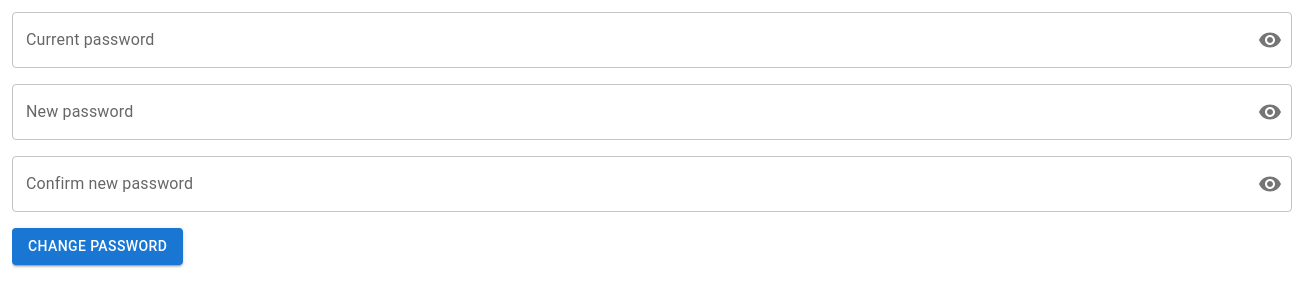
Scenario: ChangePasswordForm › requires the current password
Type "new-password-1" into the password field labelled "New password".
click(627, 112); type("new-password-1")  # box [12,84,1242,140]
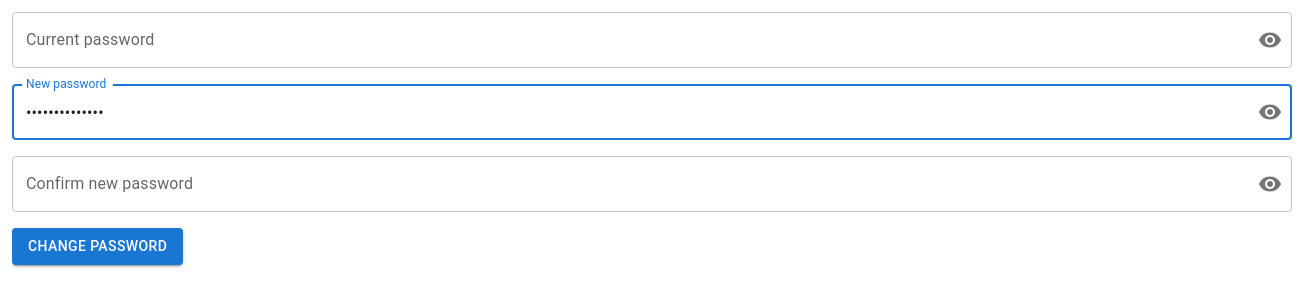
Type "new-password-1" into the password field labelled "Confirm new password".
click(627, 184); type("new-password-1")  # box [12,156,1242,212]
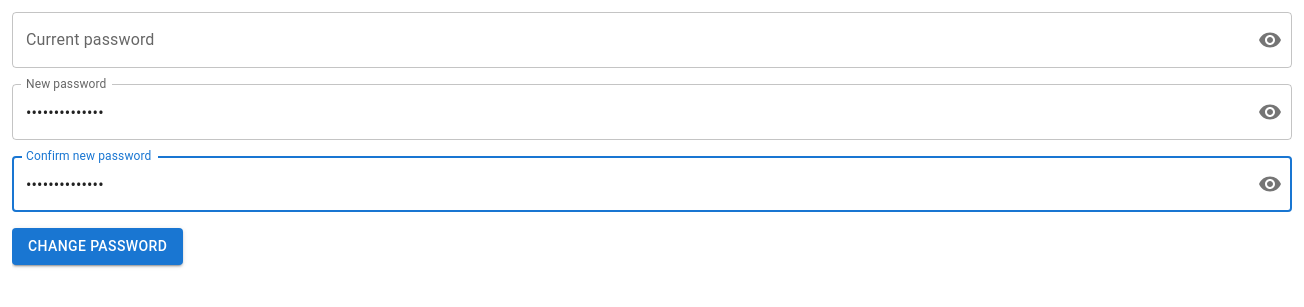
Click the button "Change password".
click(98, 246)  # box [12,228,183,264]
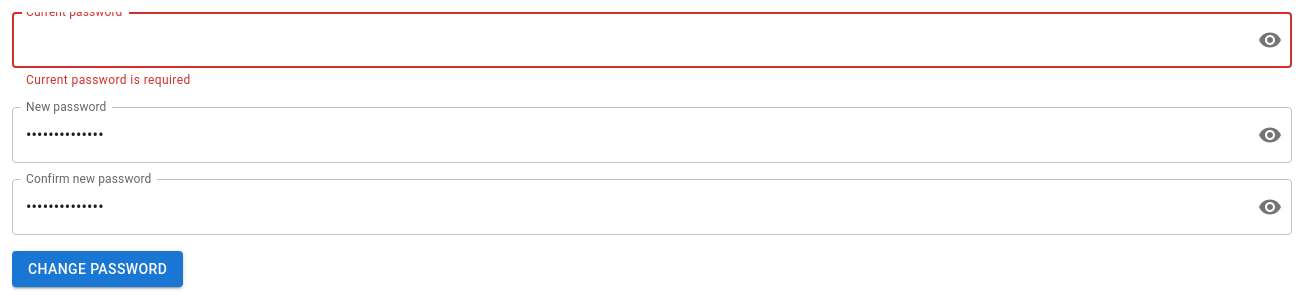
Expected: the text "Current password is required" is shown, [26,73,191,87]
